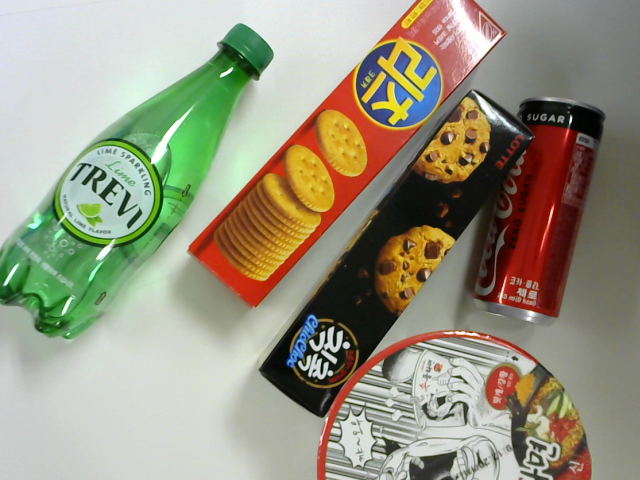Chicchok_Original_2400: (255, 84, 535, 417)
Coca_Cola_Zero_Can_250ml: (456, 93, 604, 328)
Hejangpul: (314, 324, 598, 480)
Ritz_Cracker: (178, 1, 516, 311)
Treviraim_500ml: (1, 24, 283, 343)
